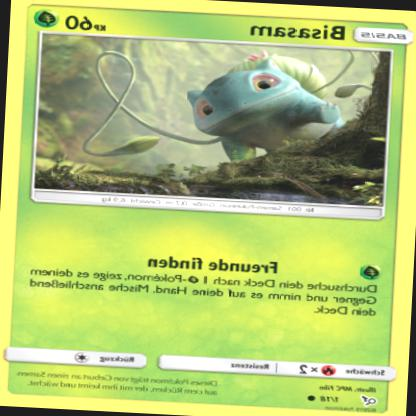Bulbasaur: (181, 47, 352, 171)
